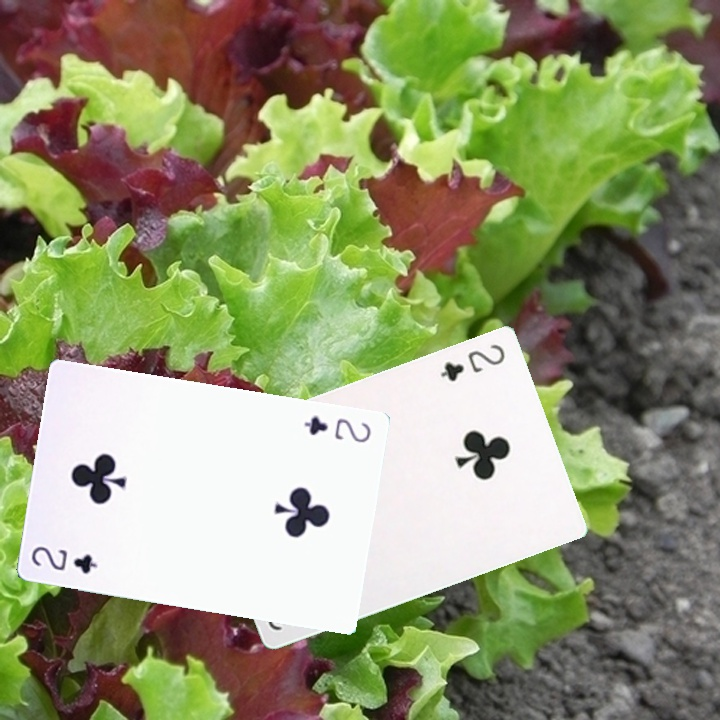2c: (436, 340, 508, 384), (299, 411, 374, 446), (27, 542, 100, 577)
